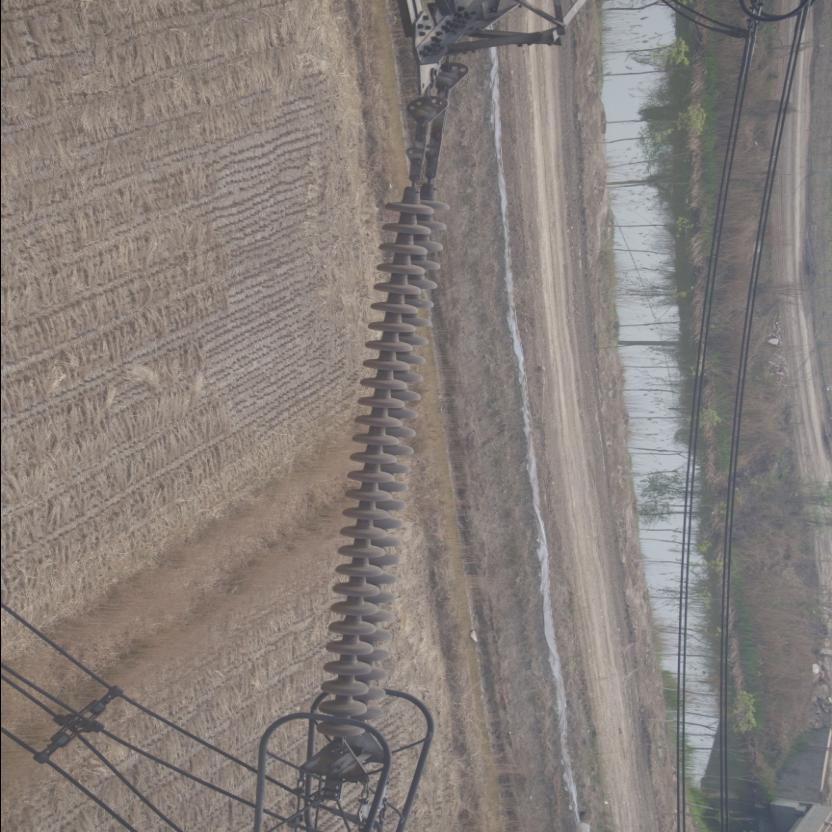insulator: (314, 171, 452, 749)
